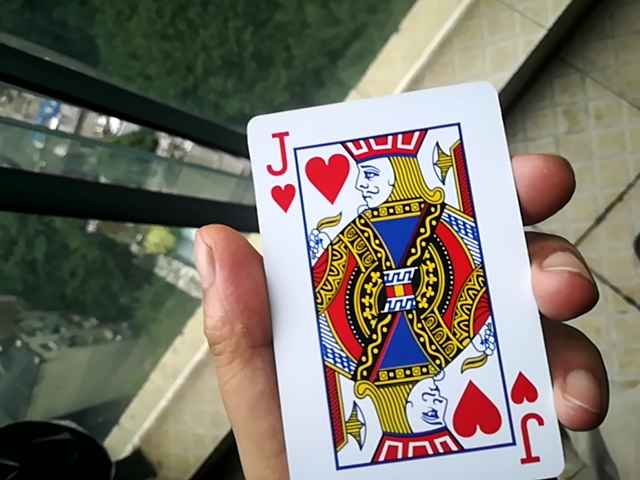hx j: (233, 80, 550, 476)
